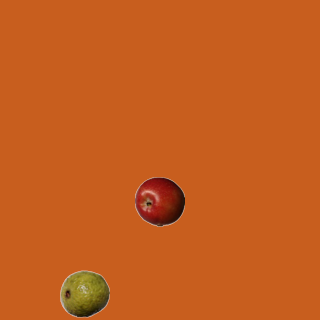Apple Braeburn: (134, 176, 184, 226)
Guava: (59, 268, 109, 318)
